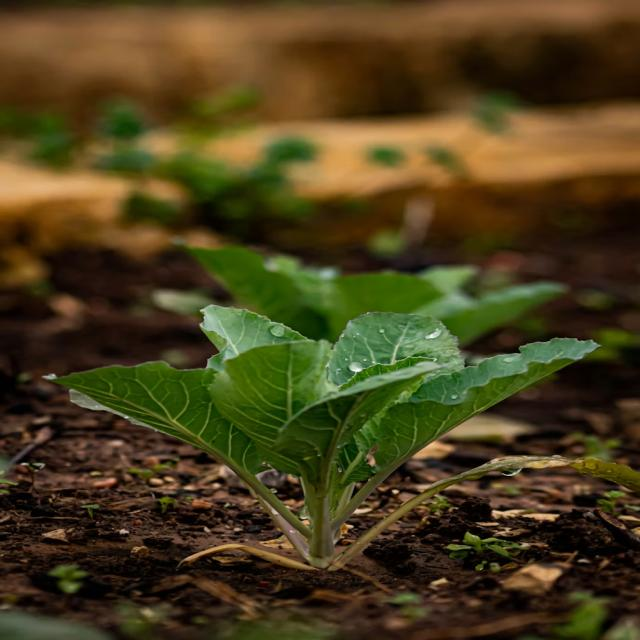inmadura: (52, 307, 602, 570)
verde: (366, 367, 369, 373)
